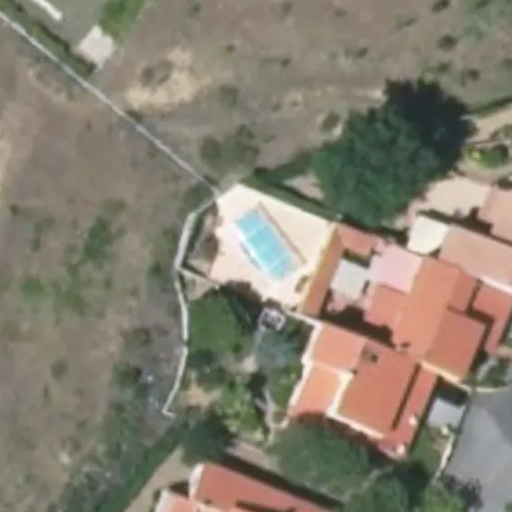pool: (219, 222, 291, 262)
